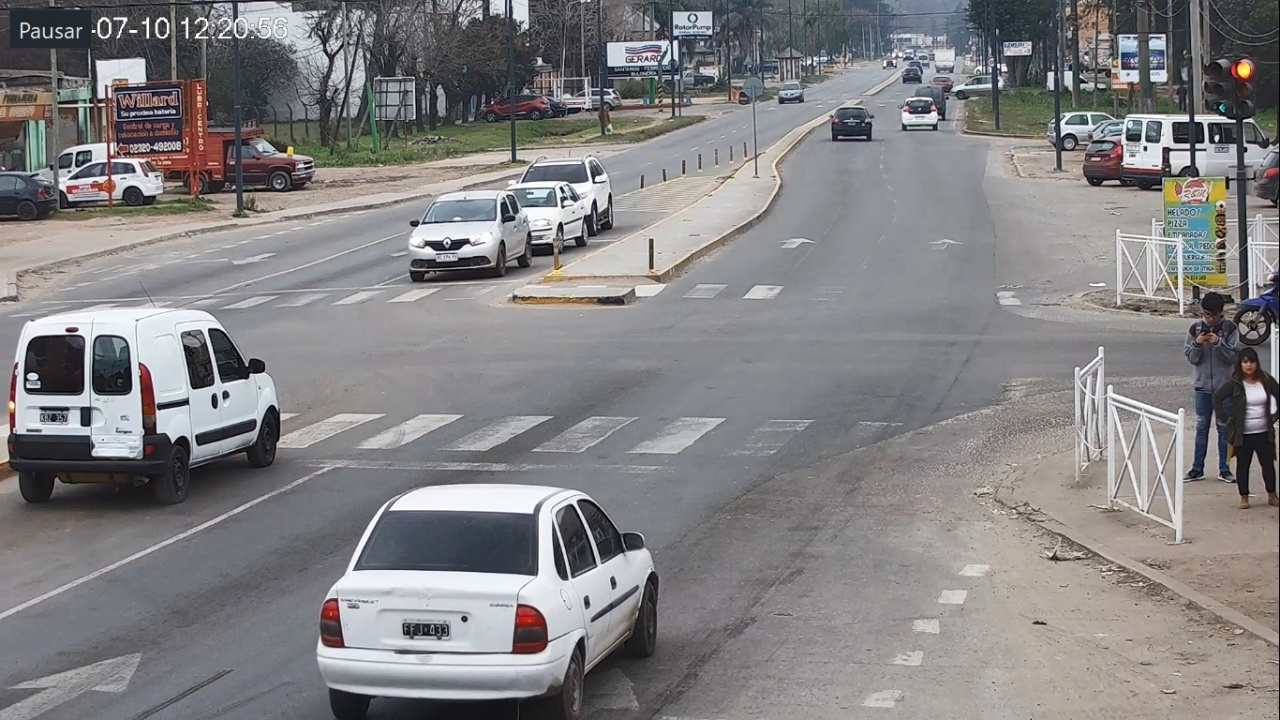car: (316, 484, 660, 720), (7, 307, 279, 502)
traffic light: (1232, 56, 1255, 118)
